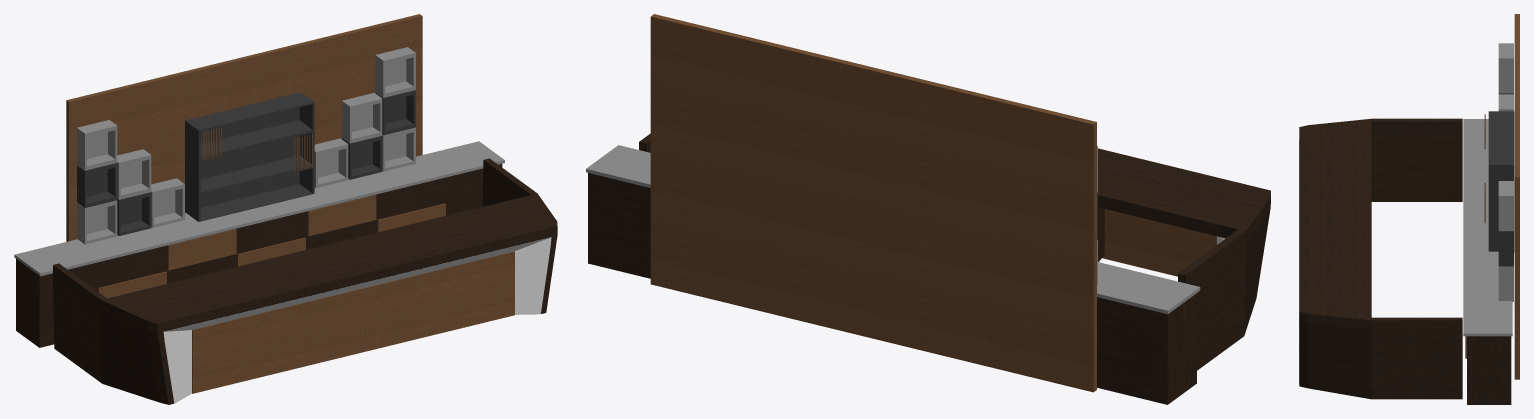
Rendered from meja bar ygy.fbx.
The picture shows the model from 3 angles, left to right: view 1: azimuth 30°, elevation 25°; view 2: azimuth 150°, elevation 25°; view 3: azimuth 270°, elevation 25°; orthographic projection. The views are drawn at different scales.
Parts seen in each view (by area): view 1: Cube, Cube.054, Cube.001, Cube.051, Cube.052, Cube.053, Cube.066, Cube.003, Cube.064, Cube.069, Cube.079, Cube.065 (+6 smaller); view 2: Cube.054, Cube, Cube.052, Cube.053, Cube.001; view 3: Cube, Cube.053, Cube.052, Cube.051, Cube.054, Cube.079, Cube.069, Cube.064, Cube.062, Cube.058, Cube.003.
Part boxes in pixels (x1,y1,x2,y2): Cube: (53, 158, 557, 404); Cube.054: (66, 14, 422, 241); Cube.001: (192, 251, 514, 393); Cube.051: (185, 92, 314, 221); Cube.052: (16, 164, 502, 347); Cube.053: (14, 141, 504, 276); Cube.066: (98, 195, 445, 298); Cube.003: (163, 237, 551, 403); Cube.064: (77, 90, 415, 235); Cube.069: (375, 47, 415, 97); Cube.079: (77, 120, 117, 170); Cube.065: (342, 93, 382, 143); Cube.054: (650, 14, 1096, 392); Cube: (639, 133, 1270, 370); Cube.052: (588, 173, 1196, 404); Cube.053: (586, 145, 1200, 314); Cube.001: (1102, 209, 1216, 276); Cube: (1299, 118, 1462, 399); Cube.053: (1463, 119, 1512, 336); Cube.052: (1467, 336, 1511, 404); Cube.051: (1488, 111, 1514, 252); Cube.054: (1514, 14, 1519, 379); Cube.079: (1498, 43, 1513, 93); Cube.069: (1498, 181, 1513, 230); Cube.064: (1498, 93, 1513, 266); Cube.062: (1498, 266, 1513, 301); Cube.058: (1498, 94, 1513, 111); Cube.003: (1299, 139, 1299, 383).
Bounding box in the file's own units: 799 × 355 × 347.
